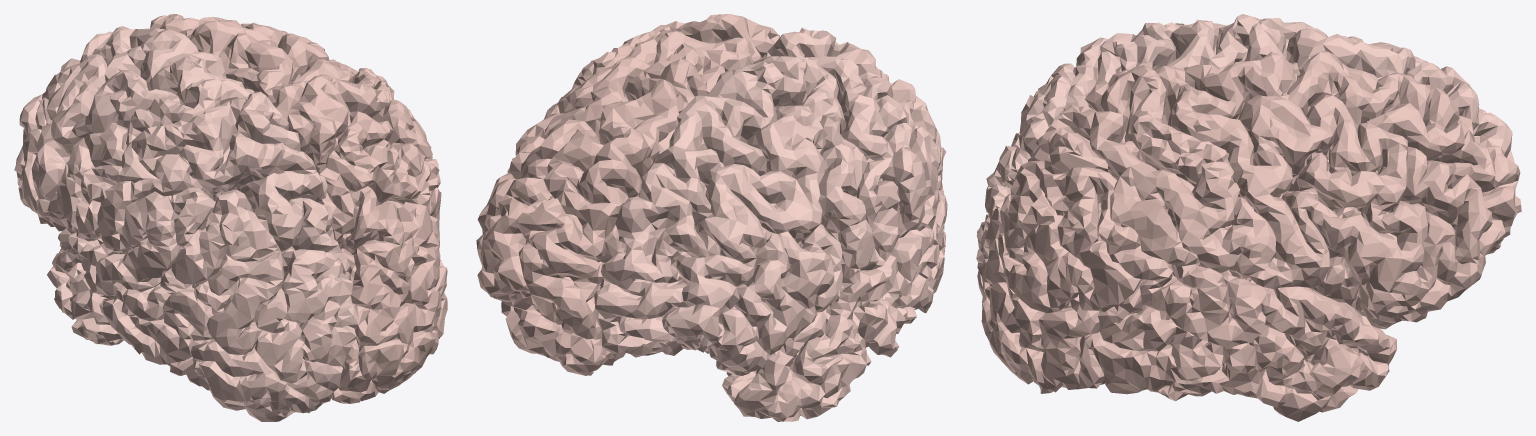
The model's file is real_cortical_brain.glb.
The picture shows the model from 3 angles, left to right: view 1: azimuth 30°, elevation 25°; view 2: azimuth 150°, elevation 25°; view 3: azimuth 270°, elevation 25°; orthographic projection. The views are drawn at different scales.
Visible parts, largest first — view 1: LEFT_PIAL_CORTEX_MRI, RIGHT_PIAL_CORTEX_MRI; view 2: LEFT_PIAL_CORTEX_MRI, RIGHT_PIAL_CORTEX_MRI; view 3: RIGHT_PIAL_CORTEX_MRI, LEFT_PIAL_CORTEX_MRI.
Boxes of the visible parts, x1,y1,x2,y2 form: LEFT_PIAL_CORTEX_MRI: (14,26,358,421); RIGHT_PIAL_CORTEX_MRI: (150,14,447,403); LEFT_PIAL_CORTEX_MRI: (594,27,947,421); RIGHT_PIAL_CORTEX_MRI: (476,14,779,375); RIGHT_PIAL_CORTEX_MRI: (980,51,1521,421); LEFT_PIAL_CORTEX_MRI: (976,14,1514,296).
Size of the model in its own units: 132 by 110 by 169.
